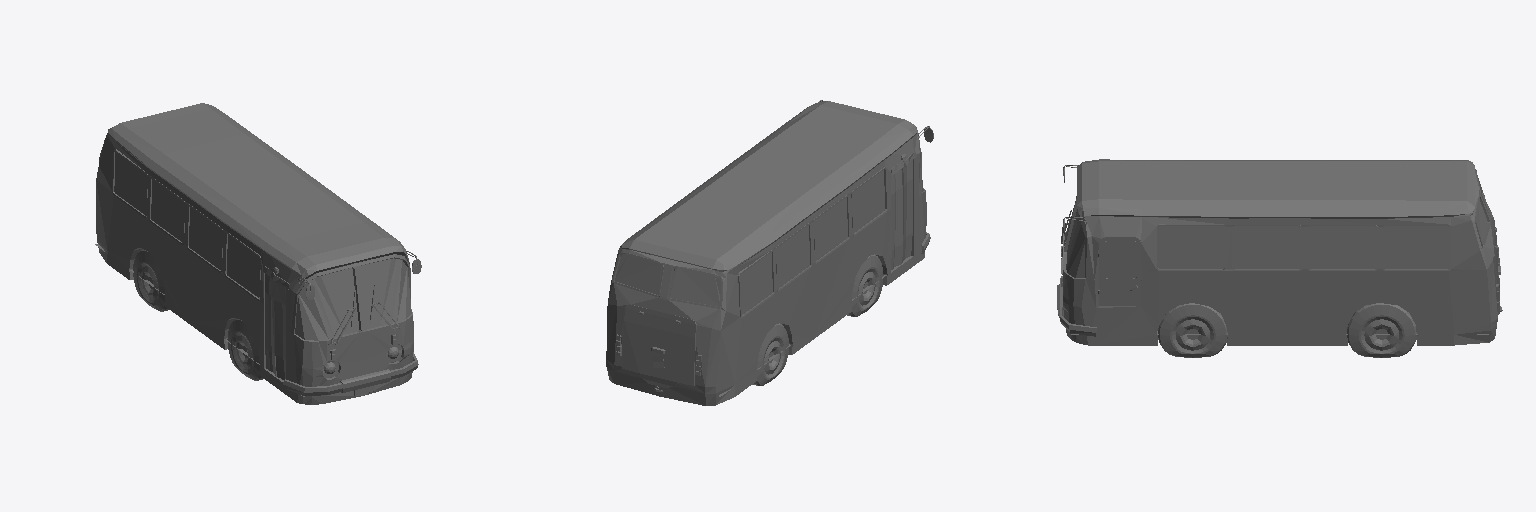
Rendered from bus2.obj.
3 renders of one model, left to right at view 1: azimuth 30°, elevation 25°; view 2: azimuth 150°, elevation 25°; view 3: azimuth 270°, elevation 25°, orthographic.
Visible parts, largest first — view 1: FINAL:bus_ussr; view 2: FINAL:bus_ussr; view 3: FINAL:bus_ussr.
Part boxes in pixels (bbox=[...]): FINAL:bus_ussr: bbox=[96, 103, 421, 404]; FINAL:bus_ussr: bbox=[606, 100, 933, 405]; FINAL:bus_ussr: bbox=[1057, 159, 1502, 357].
Size of the model in its own units: 2.05 by 2.28 by 6.11.